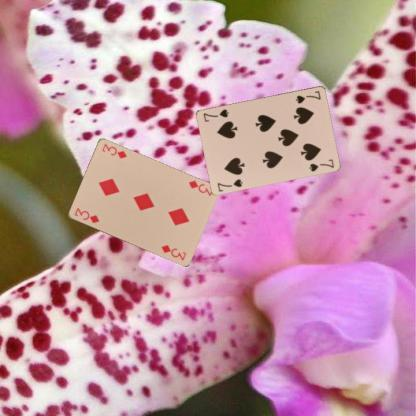3d: (72, 205, 100, 224), (186, 178, 214, 197)
7s: (215, 176, 244, 192), (293, 89, 322, 104)
